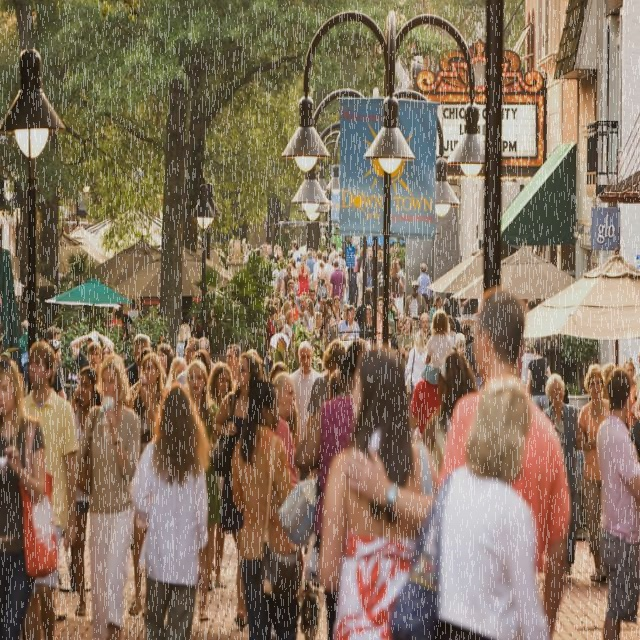pessoa: (339, 283, 576, 639), (388, 376, 552, 639), (316, 341, 448, 639), (277, 338, 374, 638), (127, 382, 210, 639), (75, 351, 142, 639), (230, 376, 302, 636), (20, 338, 82, 638), (0, 350, 62, 639), (212, 350, 262, 627), (594, 366, 639, 640), (128, 350, 170, 618), (186, 358, 220, 622), (68, 366, 102, 618), (574, 364, 611, 584), (542, 372, 580, 576), (420, 352, 478, 472), (304, 340, 348, 436), (268, 359, 302, 482), (288, 338, 324, 444), (272, 372, 303, 482), (408, 350, 444, 438), (422, 308, 454, 386), (526, 338, 553, 413), (404, 330, 428, 408), (70, 330, 116, 368), (125, 332, 152, 388), (207, 359, 235, 412), (403, 278, 428, 335), (44, 324, 66, 388), (174, 338, 202, 388), (620, 356, 638, 432), (48, 338, 68, 400), (466, 324, 484, 392), (267, 313, 291, 364), (264, 304, 278, 382), (111, 297, 140, 334), (630, 357, 640, 462), (17, 318, 30, 398), (310, 310, 326, 374), (282, 290, 297, 358), (332, 245, 348, 308), (397, 315, 417, 362), (416, 260, 434, 310), (328, 260, 348, 304), (443, 290, 479, 314), (412, 311, 432, 354), (314, 260, 332, 306), (243, 240, 284, 260), (192, 335, 212, 375), (337, 306, 360, 340), (156, 342, 176, 379), (166, 354, 189, 386), (297, 298, 316, 335), (351, 252, 363, 310), (224, 342, 243, 377), (296, 252, 311, 296), (246, 344, 266, 377), (600, 358, 616, 399), (174, 321, 192, 357), (387, 294, 401, 340), (388, 258, 404, 298), (324, 296, 338, 340), (274, 257, 288, 298), (359, 304, 374, 342), (429, 296, 443, 336), (327, 364, 343, 399), (356, 246, 364, 312), (280, 264, 296, 297), (86, 338, 102, 369), (312, 249, 326, 284), (320, 250, 334, 283), (376, 294, 384, 349), (446, 314, 458, 350), (332, 293, 344, 326), (376, 251, 384, 297), (266, 290, 286, 308), (290, 241, 302, 269), (308, 286, 320, 313), (454, 332, 468, 355), (296, 294, 306, 326), (283, 308, 293, 340), (101, 340, 115, 362), (367, 245, 374, 288), (327, 241, 339, 266), (284, 278, 296, 302), (305, 248, 316, 274), (462, 324, 476, 344), (280, 299, 294, 317), (395, 314, 405, 336), (395, 258, 406, 277), (525, 296, 538, 310), (289, 258, 298, 278), (308, 244, 318, 258), (453, 318, 462, 332), (308, 274, 316, 288), (320, 296, 326, 310), (300, 290, 308, 300)
